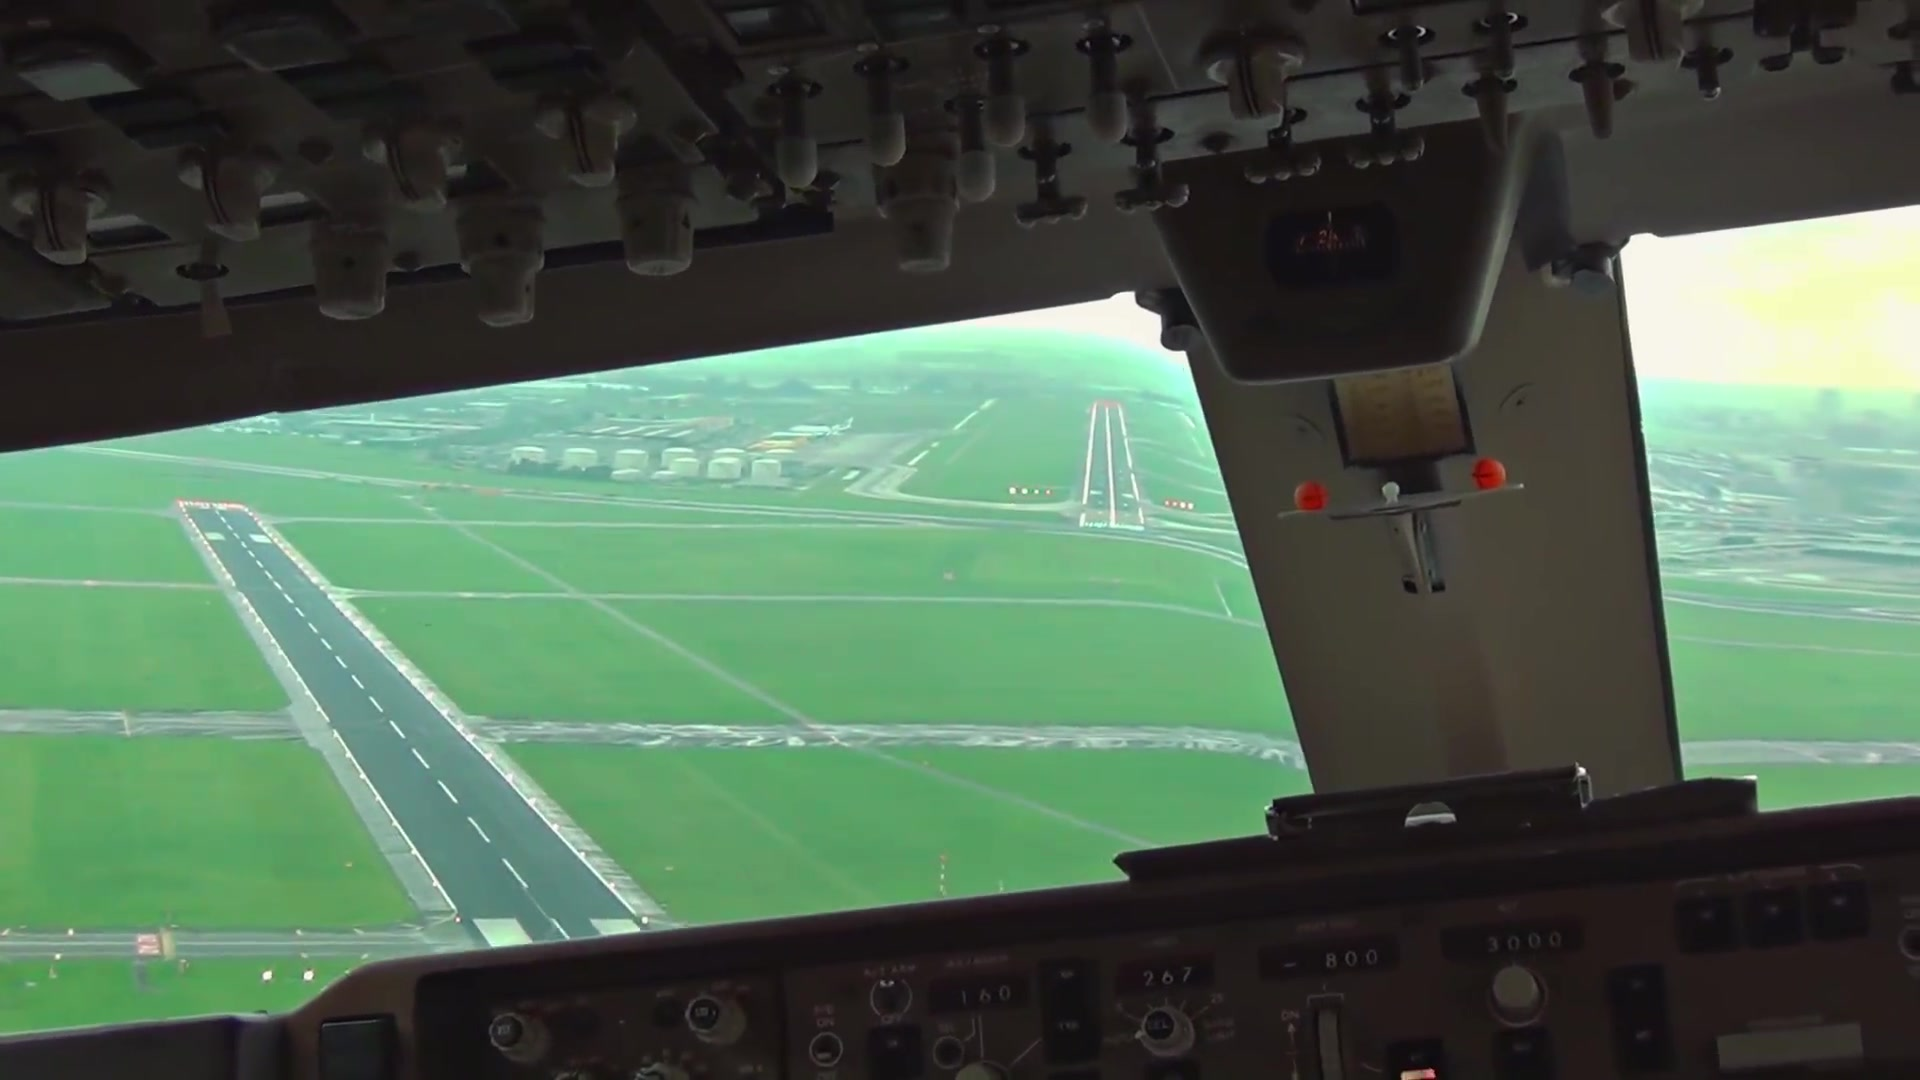runway: (1073, 389, 1149, 538)
